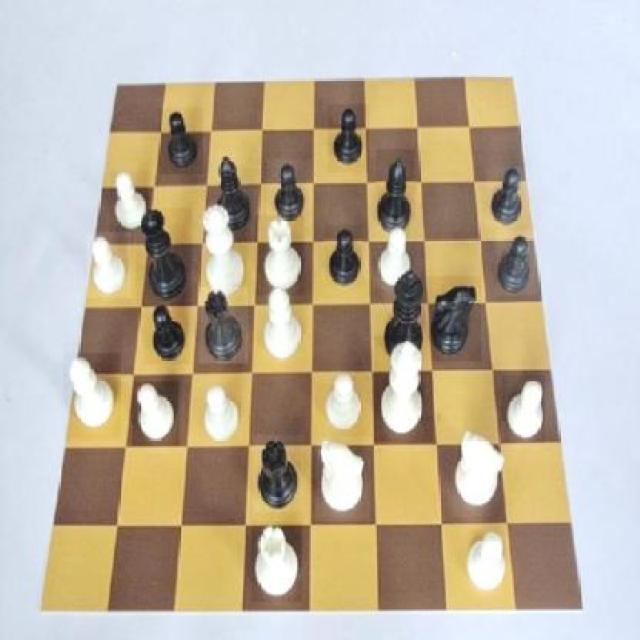bishop: (208, 152, 258, 242), (376, 151, 414, 237)
black-bishop: (382, 271, 426, 363)
black-king: (428, 277, 480, 361)
black-knight: (268, 160, 312, 228), (158, 108, 202, 174), (144, 301, 190, 364), (328, 104, 368, 174), (497, 231, 537, 295), (486, 167, 529, 226), (325, 226, 362, 289)
black-pawn: (136, 208, 192, 307)
black-queen: (253, 436, 304, 512), (200, 286, 249, 362)
black-rook: (63, 354, 120, 440), (260, 283, 305, 371)
white-bishop: (374, 337, 433, 443)
white-king: (450, 422, 506, 516), (317, 437, 372, 521)
white-knight: (195, 376, 242, 450), (375, 220, 420, 291), (132, 380, 180, 446), (320, 372, 369, 436), (503, 375, 546, 443), (88, 232, 132, 298), (462, 534, 512, 590), (111, 171, 151, 240)
white-pawn: (197, 204, 248, 300)
white-queen: (252, 520, 302, 602), (256, 216, 304, 296)
